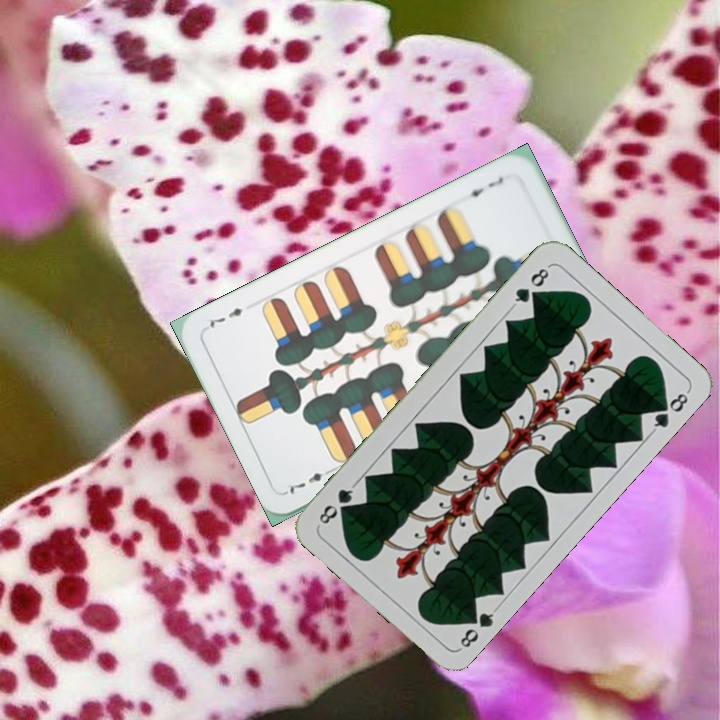E7: (282, 463, 338, 497), (459, 173, 506, 200)
G8: (454, 604, 500, 652), (508, 262, 553, 310)
